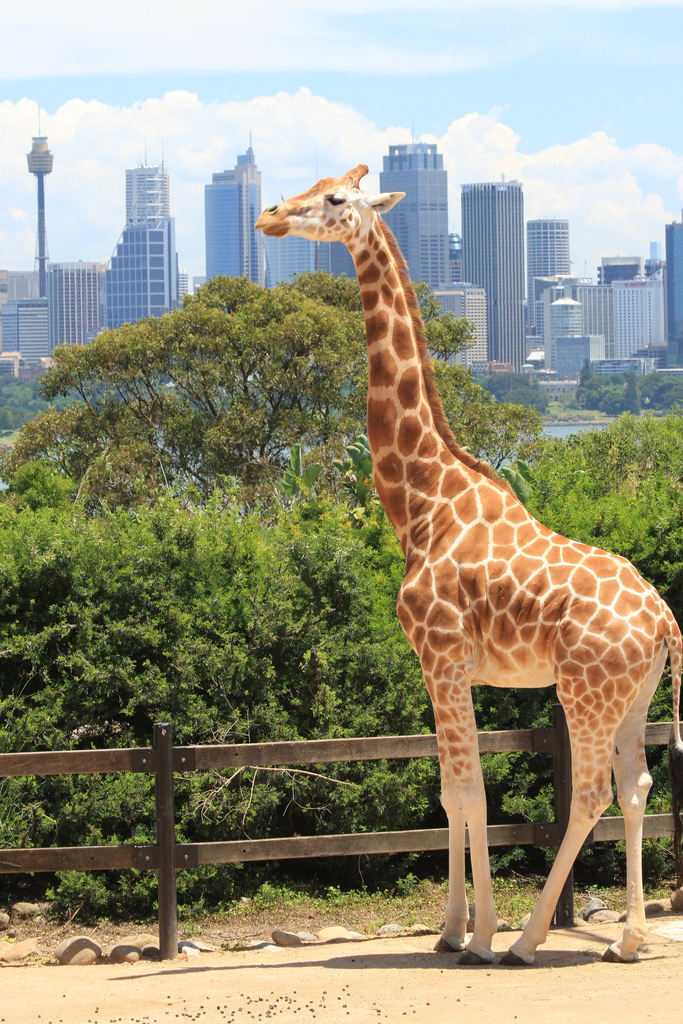giraffe: (234, 117, 683, 968)
